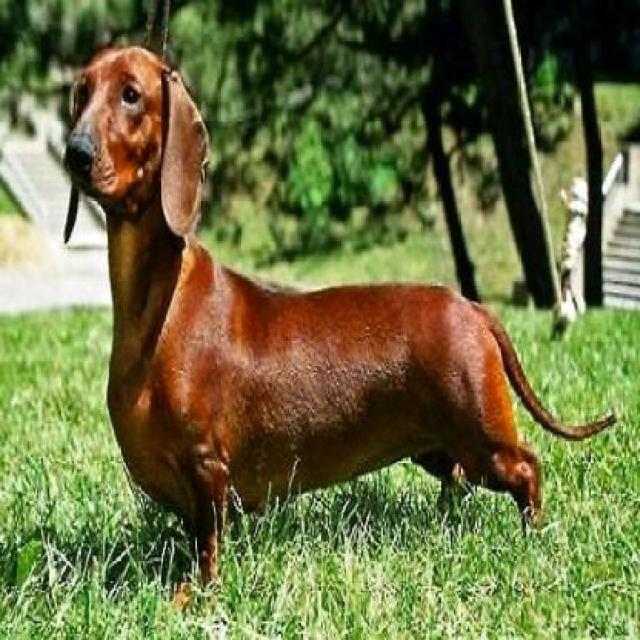Dog: (58, 41, 617, 592)
